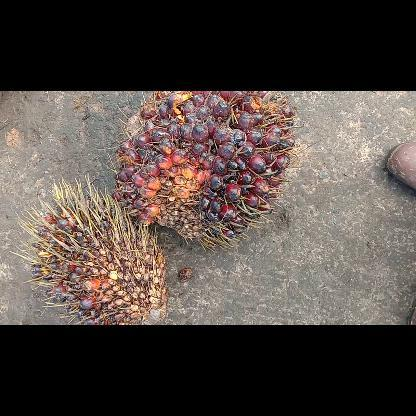Kurang masak: (108, 90, 302, 250)
TBS abnormal: (10, 176, 168, 324)
